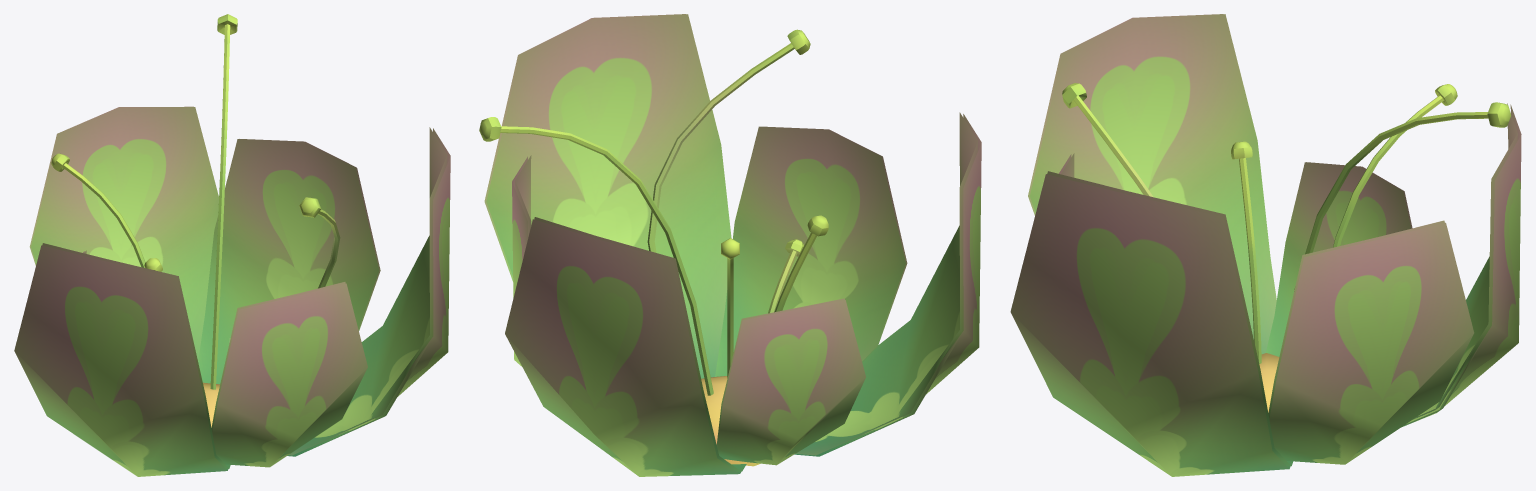
File: fleur coque.fbx
3 views of the same model, side by side, from view 1: azimuth 30°, elevation 25°; view 2: azimuth 150°, elevation 25°; view 3: azimuth 270°, elevation 25° (orthographic). The views are drawn at different scales.
Parts seen in each view (by area): view 1: Object004; view 2: Object004; view 3: Object004.
Part boxes in pixels (left/top/right/bottom): Object004: left=14, top=14, right=450, bottom=476; Object004: left=479, top=14, right=981, bottom=476; Object004: left=1010, top=14, right=1521, bottom=476.
Bounding box in the file's own units: 8.62 × 6.34 × 7.56.
